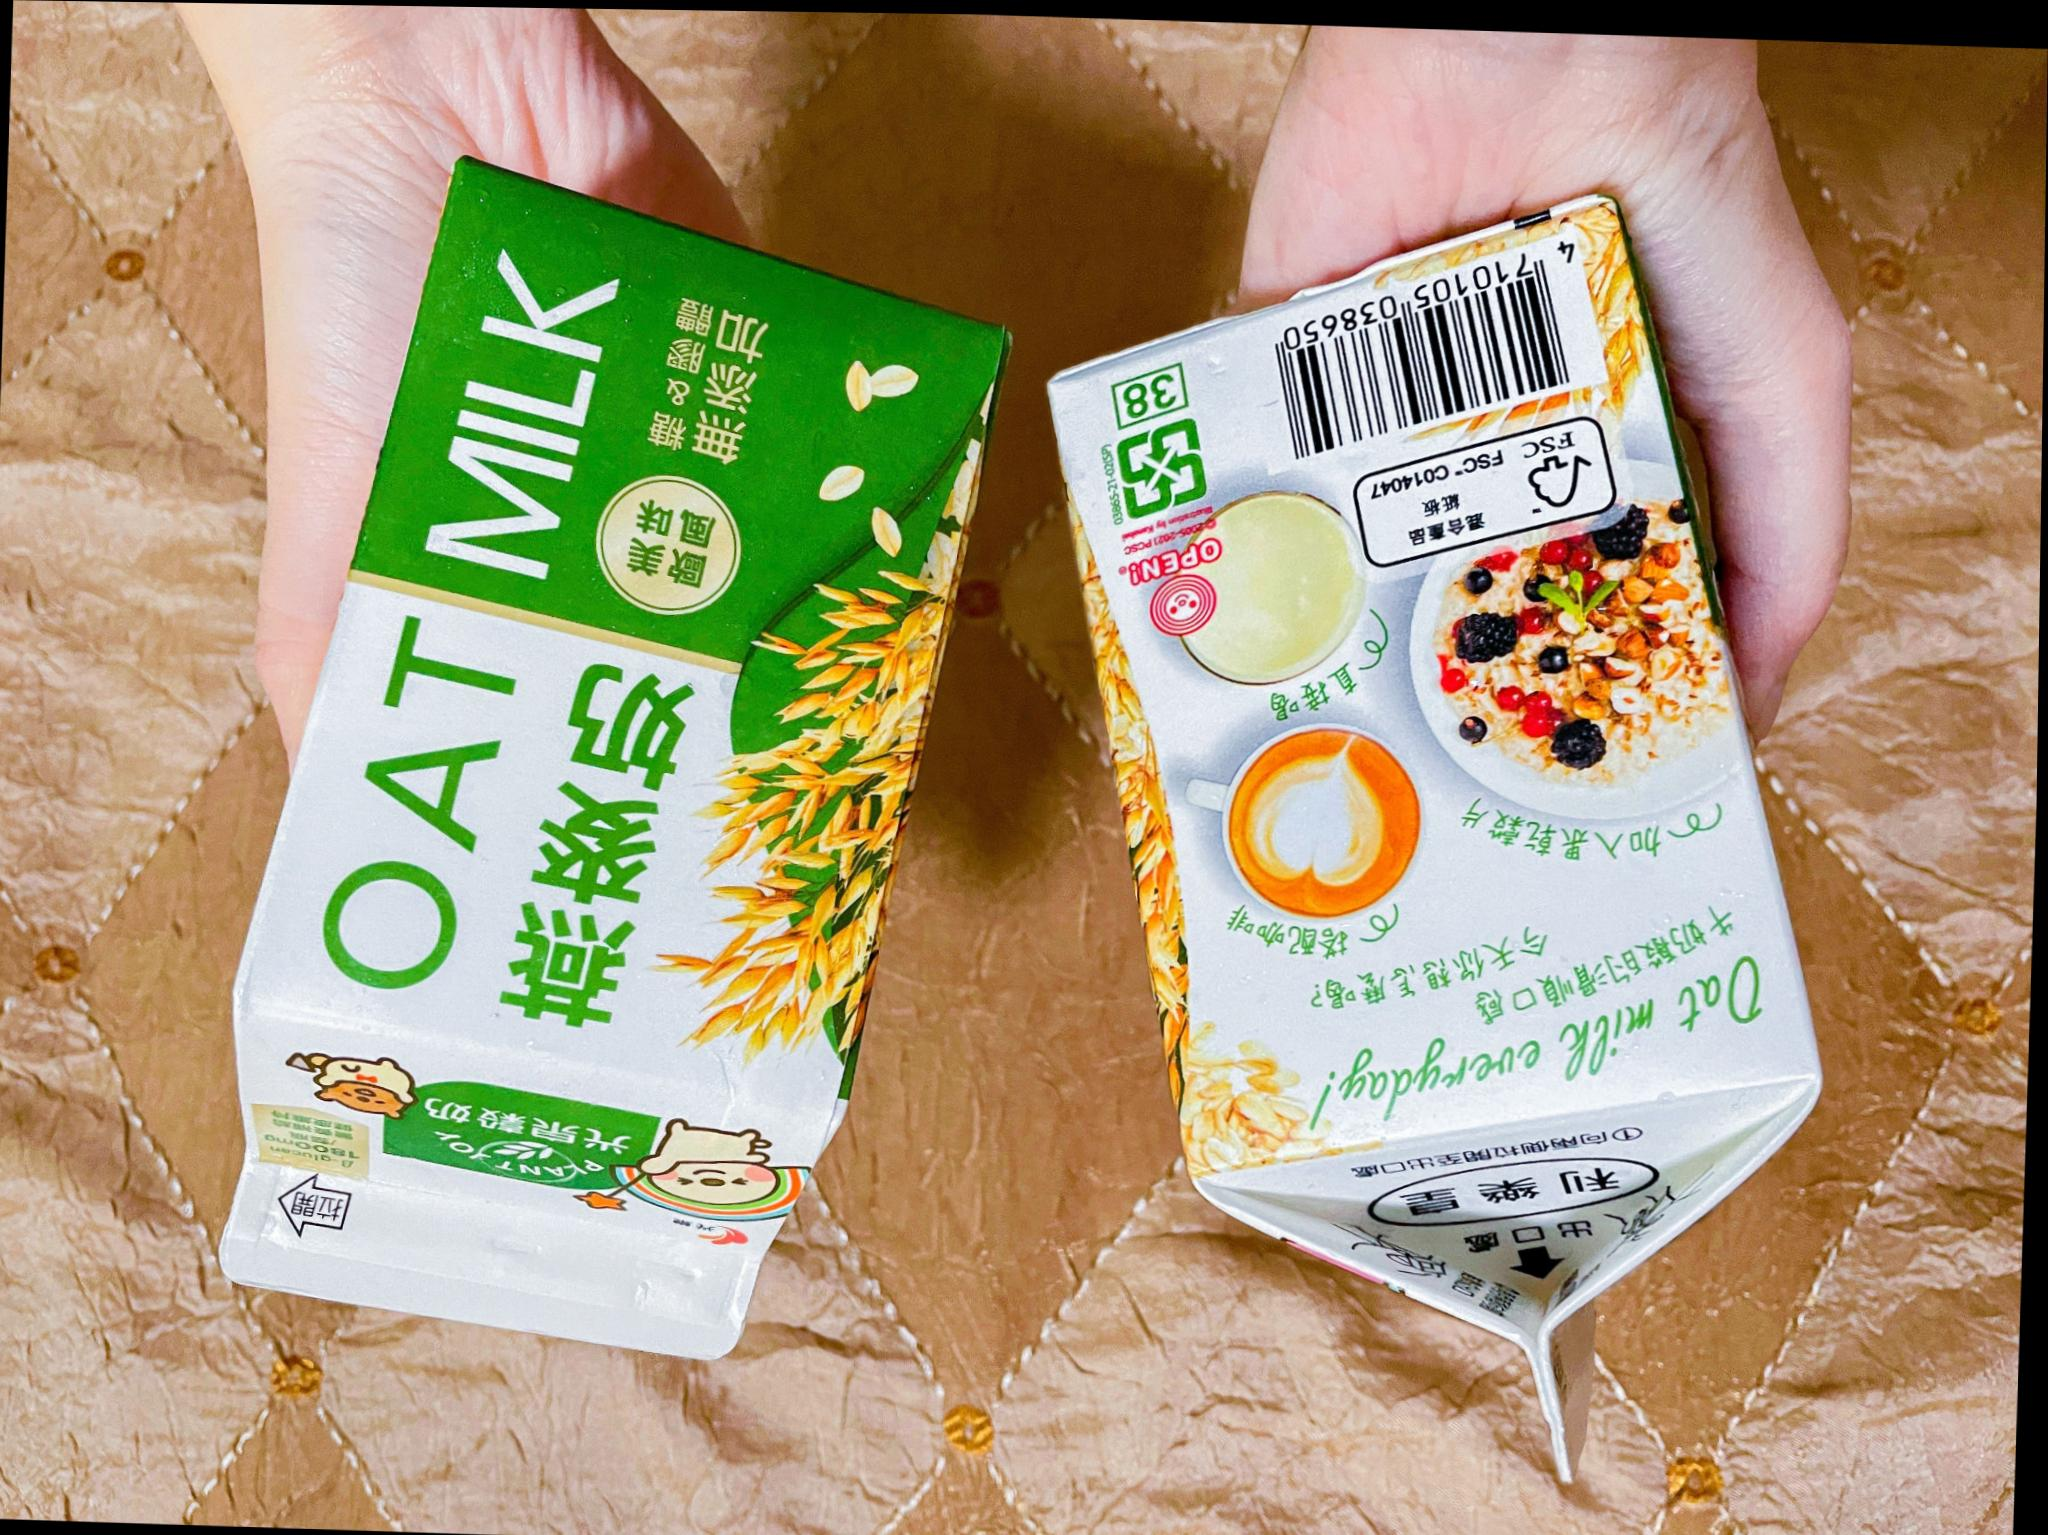cardboard: (1050, 196, 1830, 1491), (223, 158, 1006, 1357)
